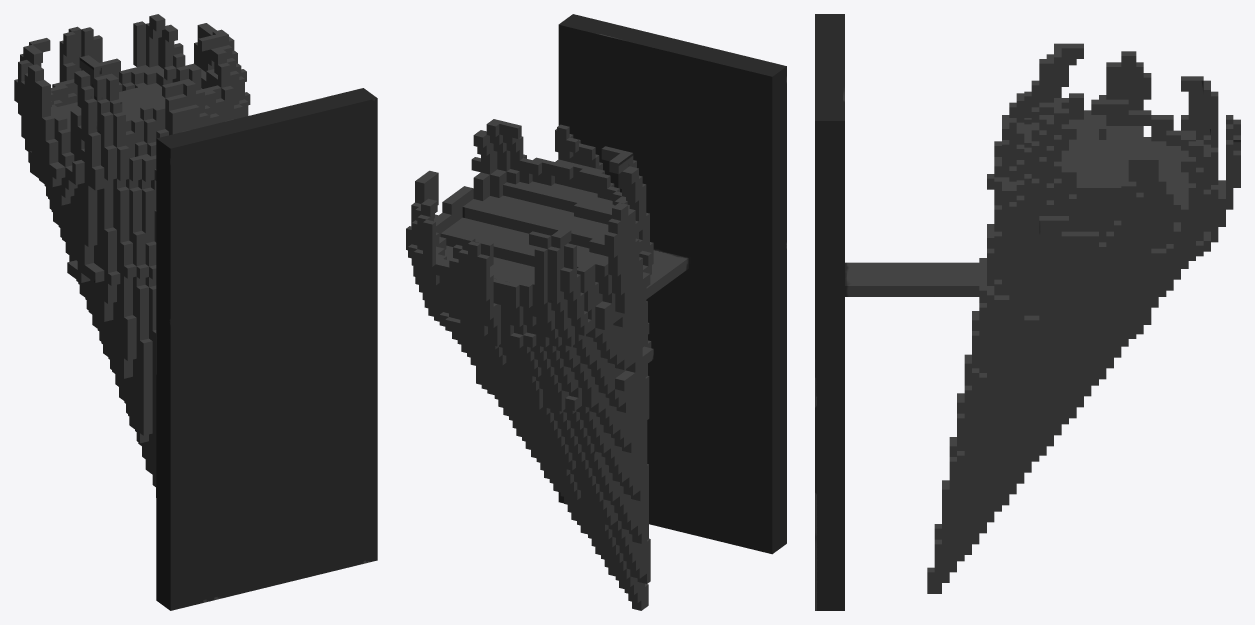
Rendered from wall-torch.fbx.
3 renders of one model, left to right at view 1: azimuth 30°, elevation 25°; view 2: azimuth 150°, elevation 25°; view 3: azimuth 270°, elevation 25°, orthographic. The views are drawn at different scales.
Visible parts, largest first — view 1: Cylinder; view 2: Cylinder; view 3: Cylinder.
Boxes of the visible parts, x1,y1,x2,y2 form: Cylinder: (14, 14, 377, 610); Cylinder: (406, 14, 786, 610); Cylinder: (815, 14, 1240, 610).
Size of the model in its own units: 98.85 by 230 by 166.
1 material, 1 textured.
